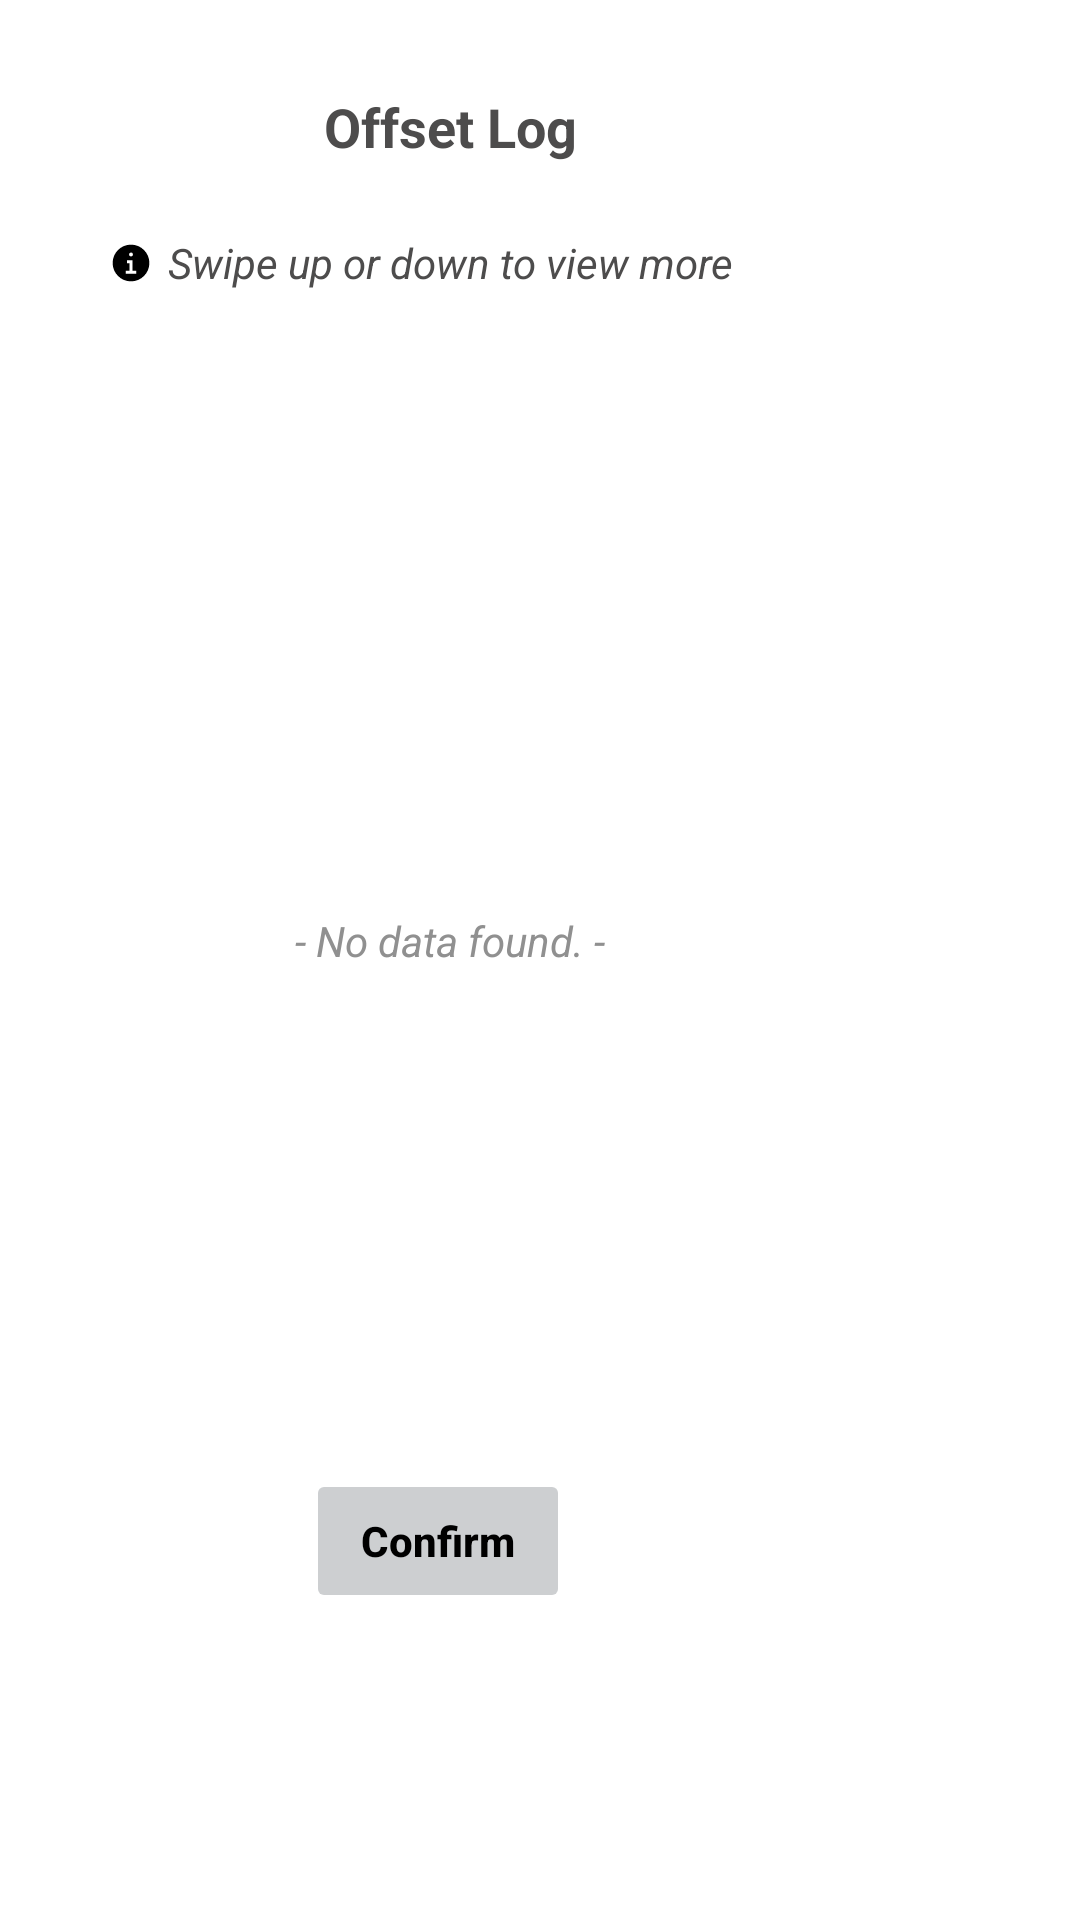

Where to tap for icons on this 1080 × 1920 app screen, as [x,y]:
info: [131,263]
